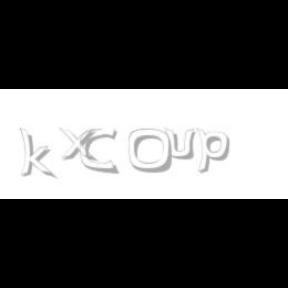C: (80, 128, 118, 174)
O: (128, 128, 174, 174)
k: (19, 128, 57, 180)
p: (197, 128, 234, 174)
u: (164, 128, 199, 160)
x: (59, 128, 101, 162)
